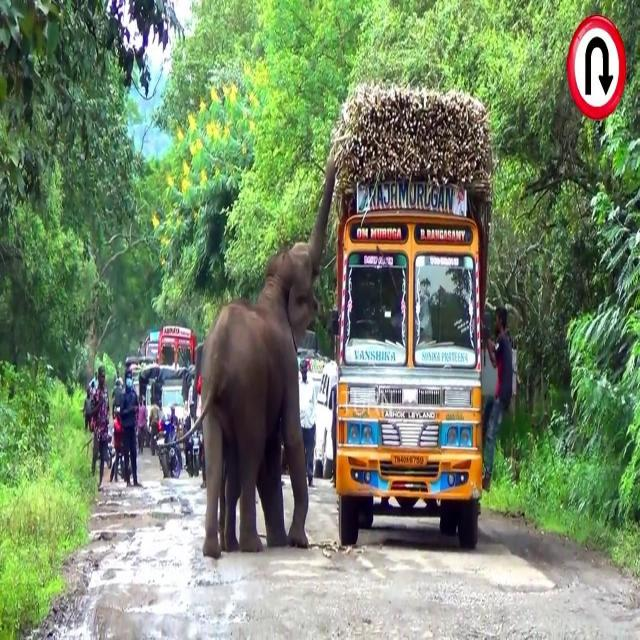Elephant: (177, 144, 337, 558)
